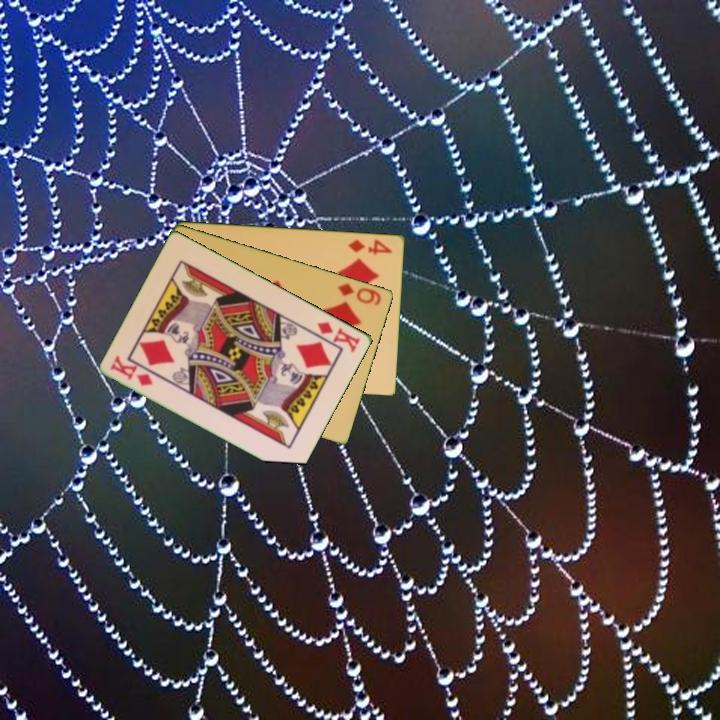4d: (344, 236, 395, 257)
6d: (335, 279, 384, 308)
Kd: (314, 318, 363, 355), (107, 352, 156, 389)
